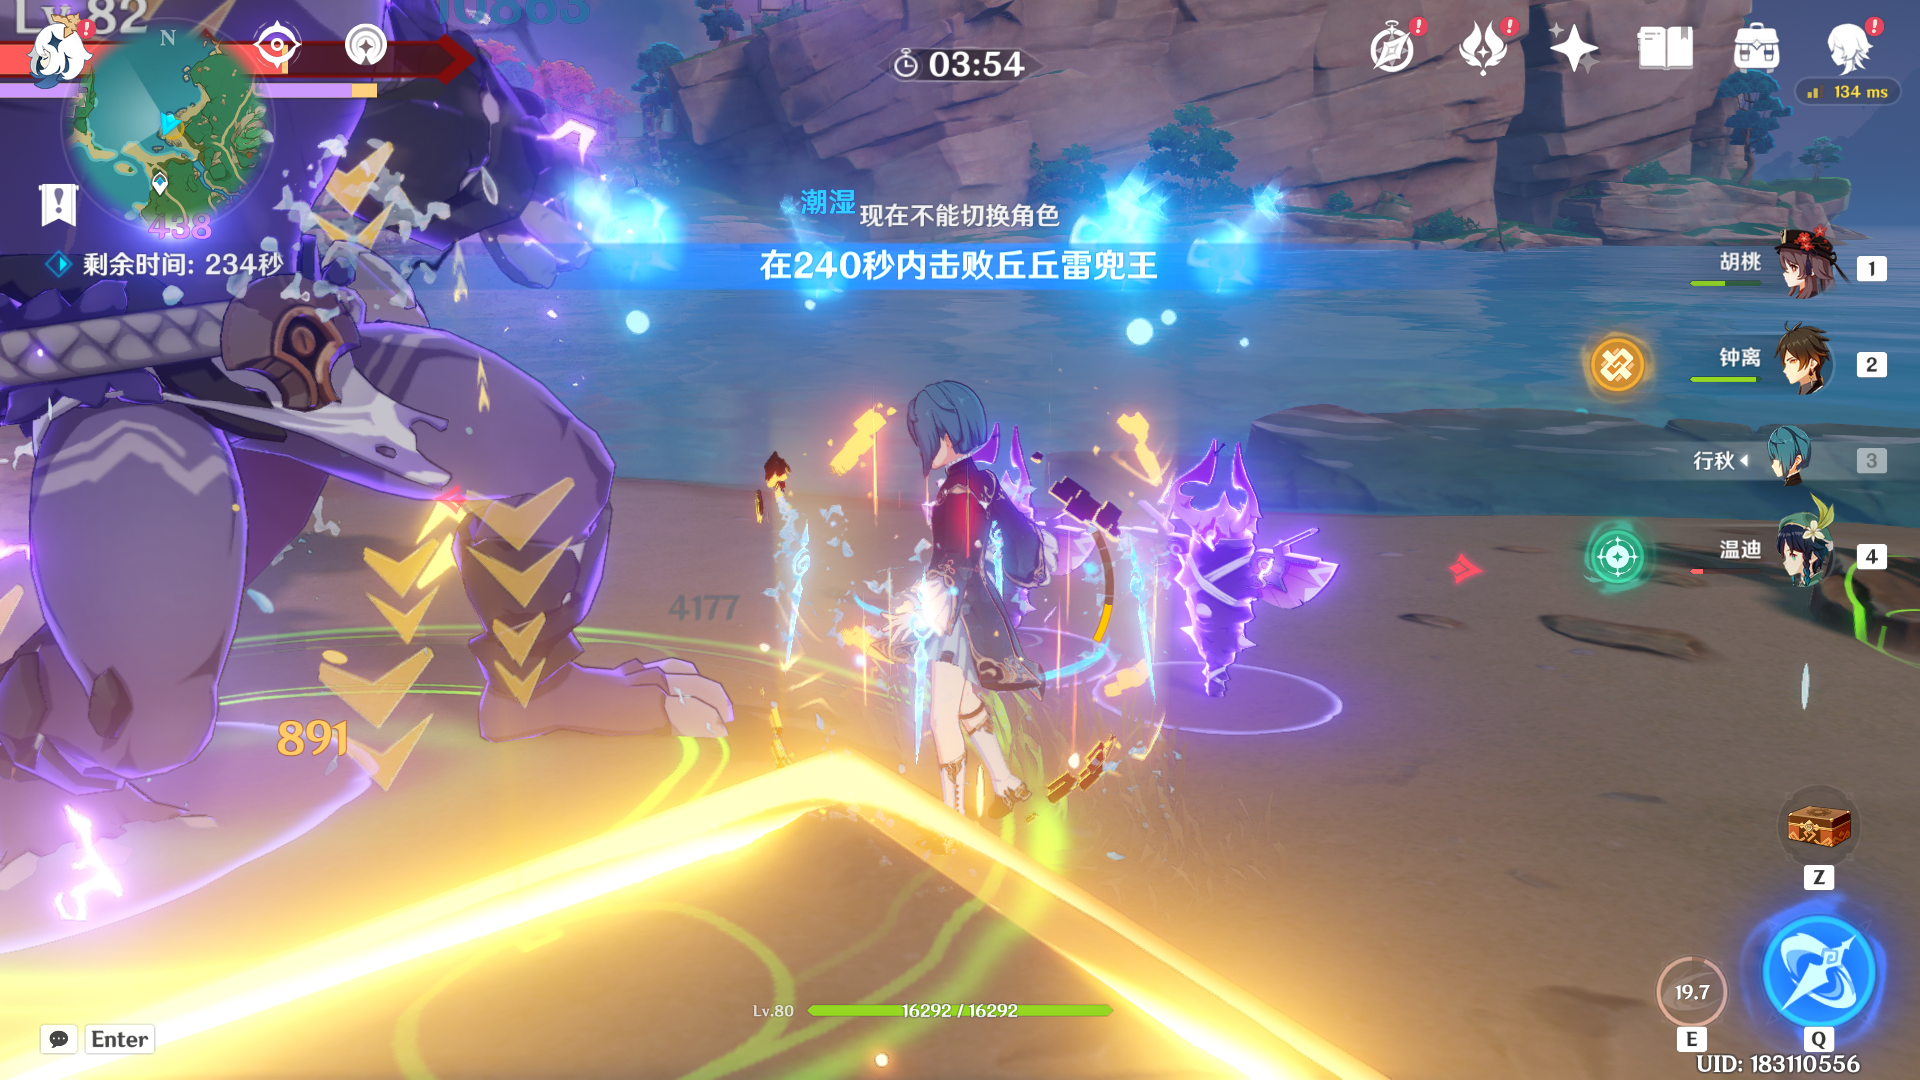character: (851, 375, 1172, 902)
